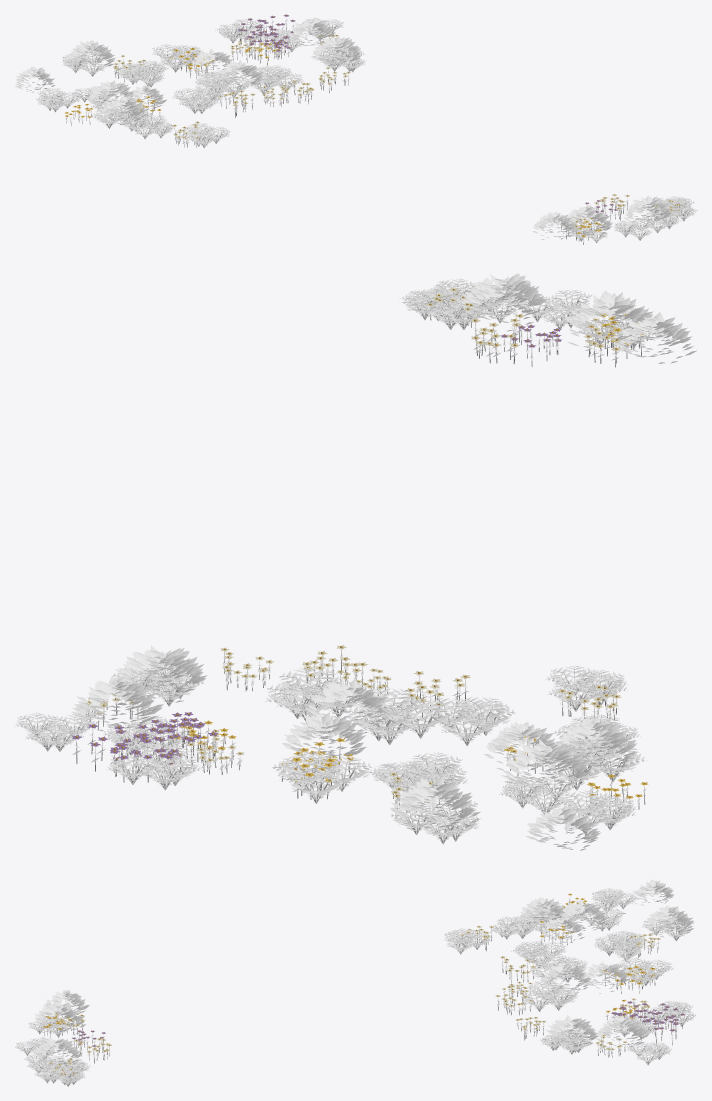
The model's file is SM_DF_Nature_1_3_Flora.fbx.
3 views of the same model, one above another, from view 1: azimuth 30°, elevation 25°; view 2: azimuth 150°, elevation 25°; view 3: azimuth 270°, elevation 25° (orthographic). The views are drawn at different scales.
Parts seen in each view (by area): view 1: SM_DF_Nature_1_3_Flora; view 2: SM_DF_Nature_1_3_Flora; view 3: SM_DF_Nature_1_3_Flora.
Part boxes in pixels (box(x1,y1,x2,y2)): SM_DF_Nature_1_3_Flora: box(14, 14, 697, 244); SM_DF_Nature_1_3_Flora: box(14, 273, 696, 850); SM_DF_Nature_1_3_Flora: box(15, 879, 696, 1086).
Bounding box in the file's own units: 1883 × 2770 × 203.
